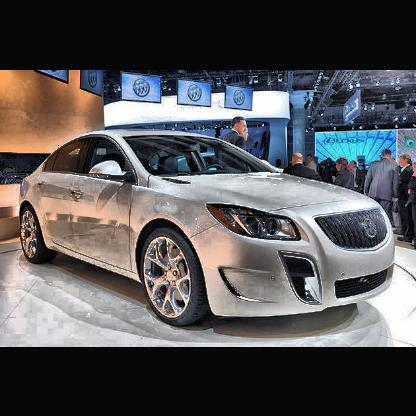Buick Regal GS 2012: (18, 135, 399, 325)
